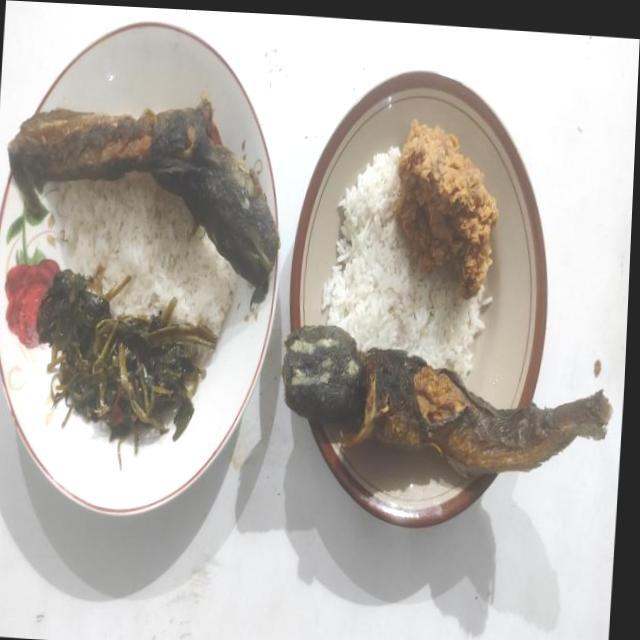nasi_putih: (322, 146, 492, 378), (47, 172, 242, 336)
tumis_kangkung: (35, 268, 216, 452)
